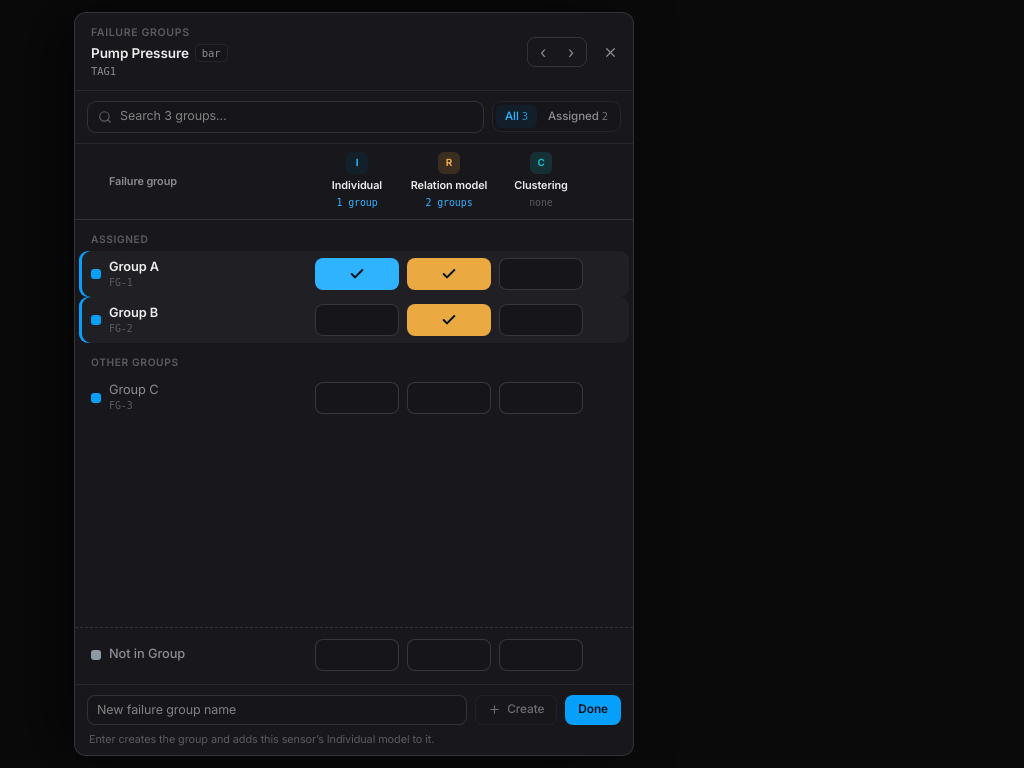
Scenario: FailureGroupAssignSheet › search › says so when nothing matches
In the field named "Search failure groups": x=296, y=117 [120,108,473,126], type "zzz"
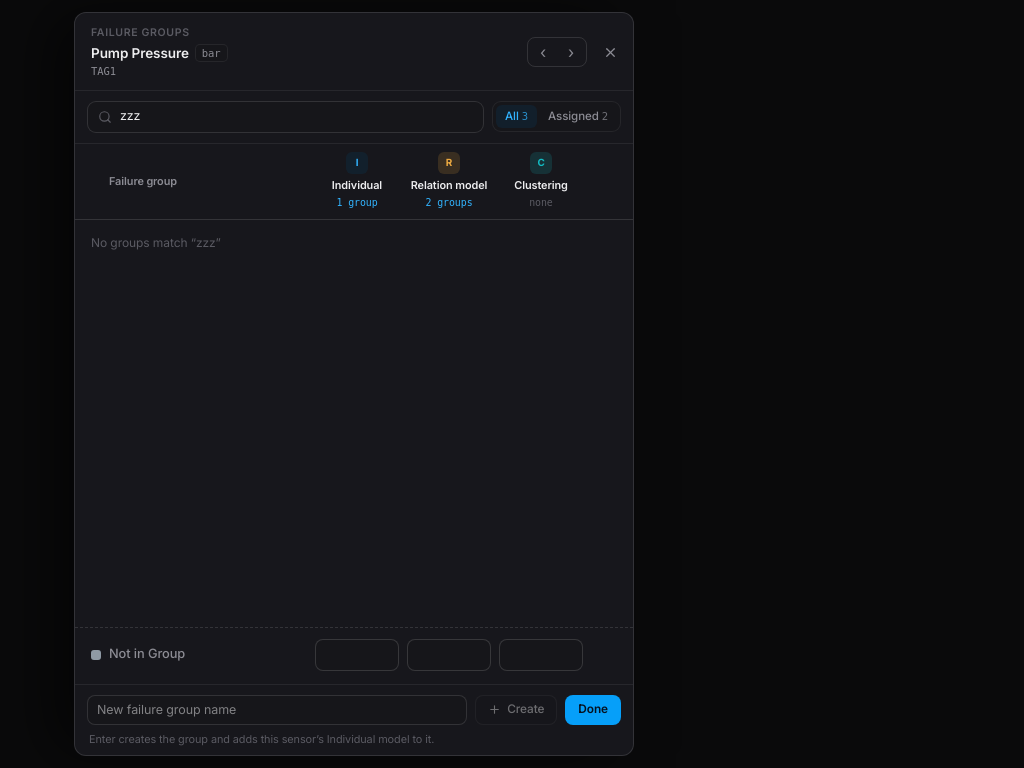
Expected: the element with test id "fg-sheet-row-0" is shown, [79,632,629,678]
Now the text "No groups match “zzz”" is shown, box [91,235,221,250]
